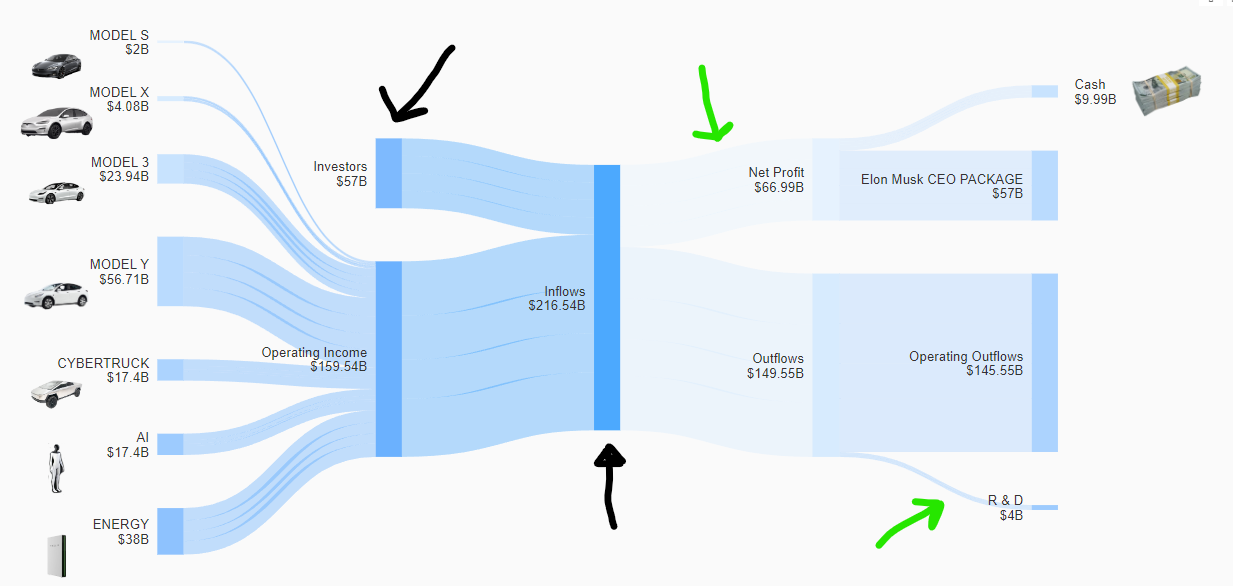

The page's visual inventory and layout, read from the dashboard file:
{"tool":"powerbi","page":{"name":"Gross Version from MS","canvas":[1280,720],"ordinal":1},"visuals":[{"type":"sankey02300D1BE6F5427989F3DE31CCA9E0F32020","fields":{"Source":["TeslaData.Origin"],"Destination":["TeslaData.Dest"],"Weight":["TeslaData.Cash + Investment"]},"box":[70.5,111.9,1140.4,580.7],"z":0},{"type":"slicer","fields":{"Values":["Increase Investing Activity.Increase Investing Activity"]},"box":[70.5,8.7,280.5,103.2],"z":1000},{"type":"slicer","fields":{"Values":["ccc.ccc"]},"box":[689.1,0,522,103.6],"z":2000}]}

Visuals, with their boxes on the page's 1280x720 design canvas (x1, y1, x2, y2). These are canvas units, not pixel positions in the 1233x586 screenshot, which may show the page scaled, cropped or inside an application window:
sankey02300D1BE6F5427989F3DE31CCA9E0F32020 - TeslaData.Origin x TeslaData.Dest: <box>70,112,1211,693</box>
slicer - Increase Investing Activity.Increase Investing Activity: <box>70,9,351,112</box>
slicer - ccc.ccc: <box>689,0,1211,104</box>
